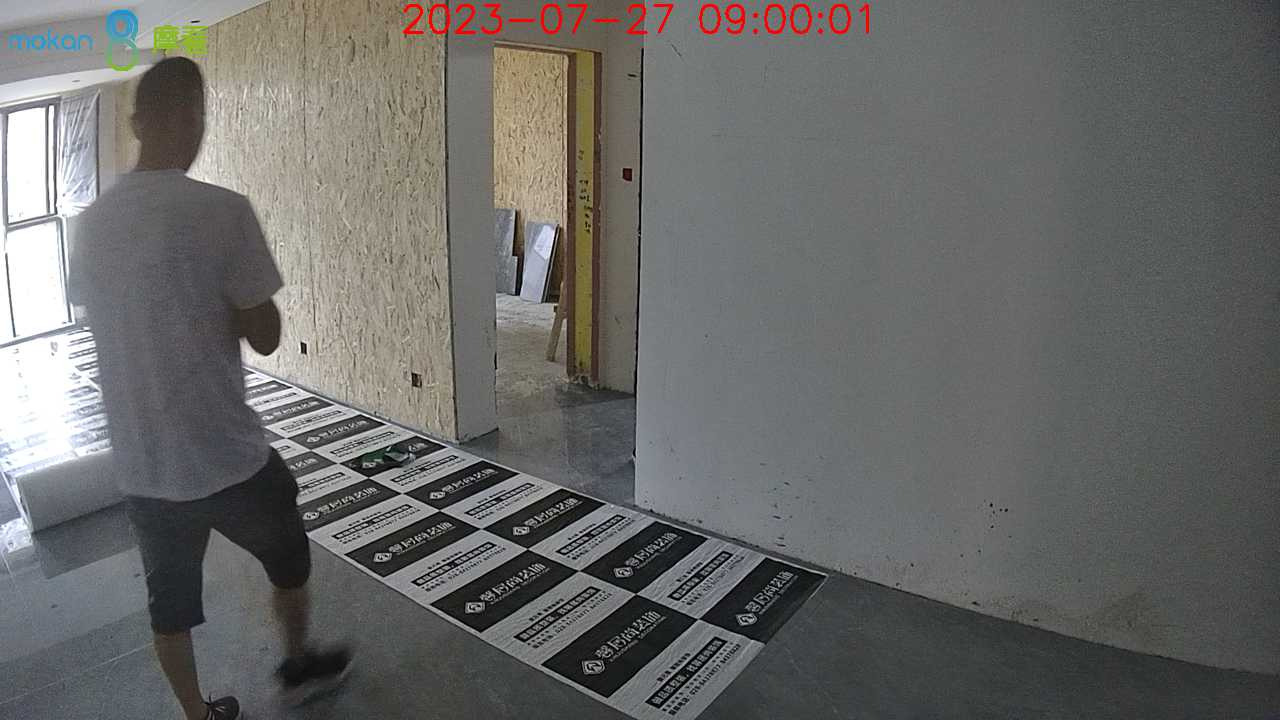people: (71, 59, 369, 718)
window: (1, 88, 113, 336)
